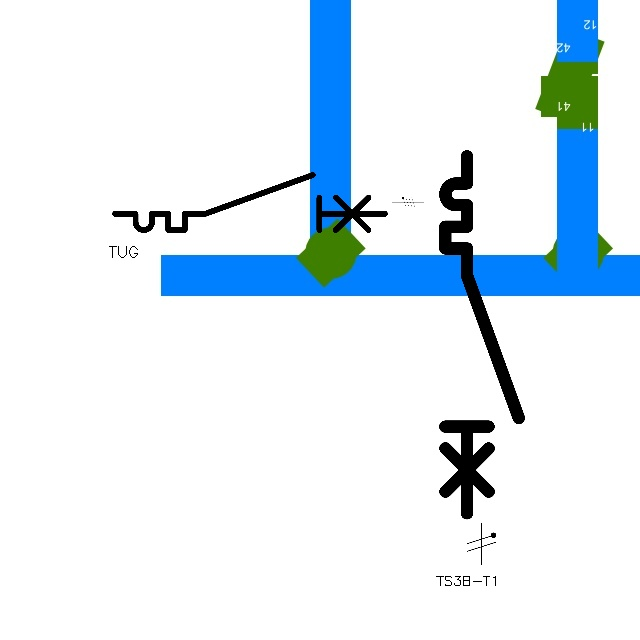interruptor_termomagnetico: (436, 147, 528, 523), (108, 168, 392, 237)
